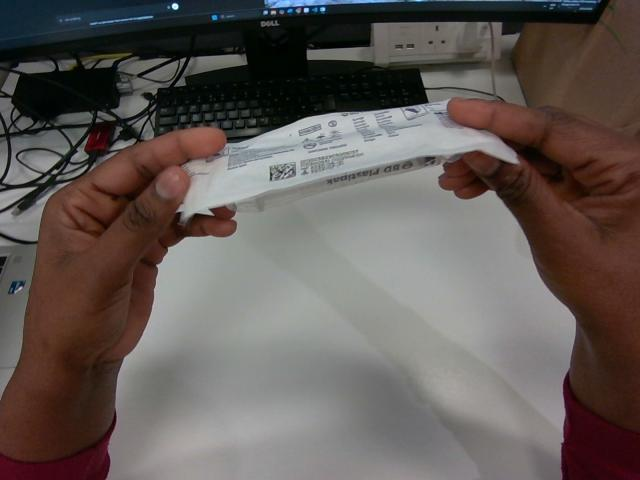syringe: (182, 101, 517, 221)
